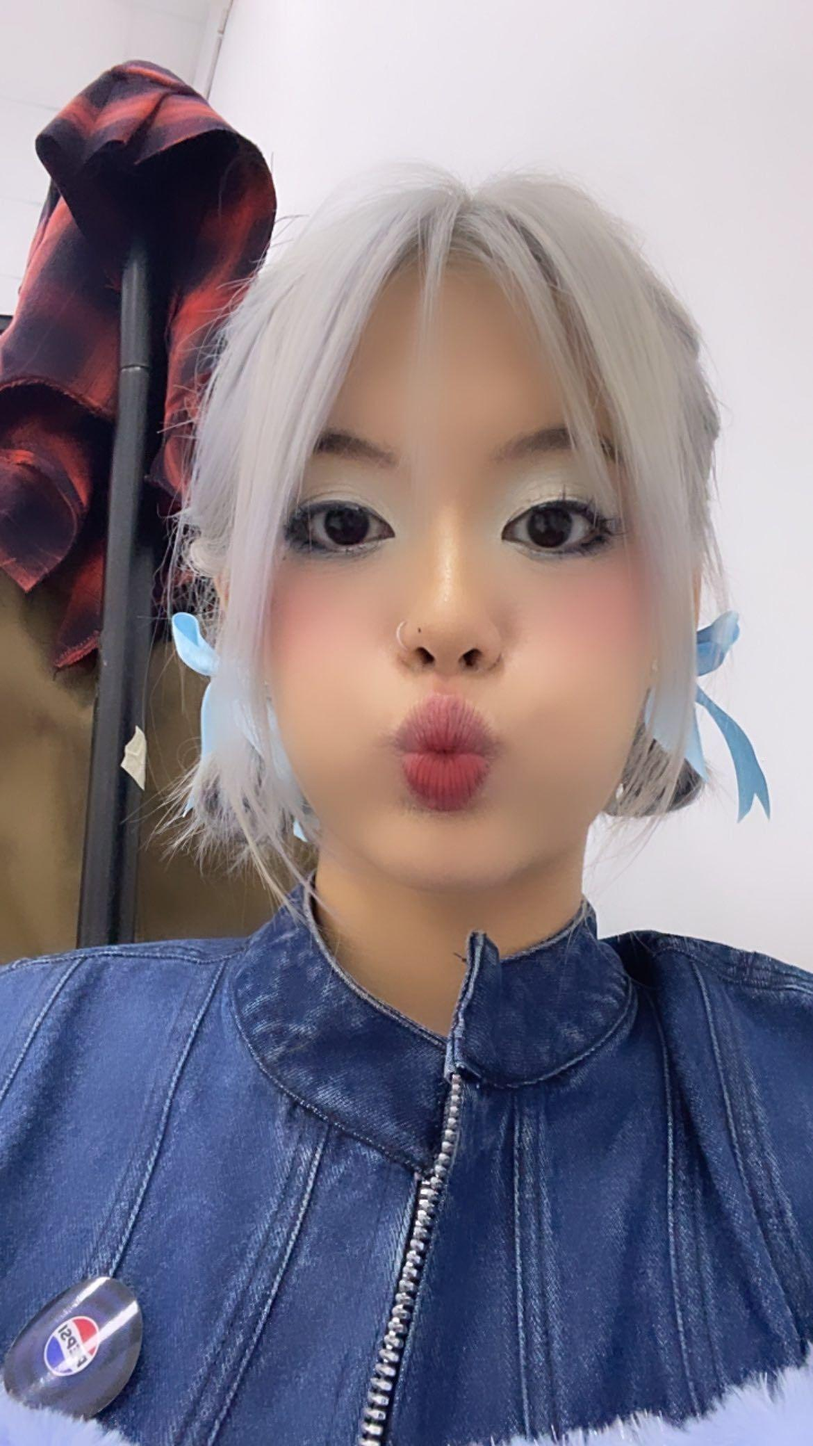non-dog: (0, 152, 813, 1446)
